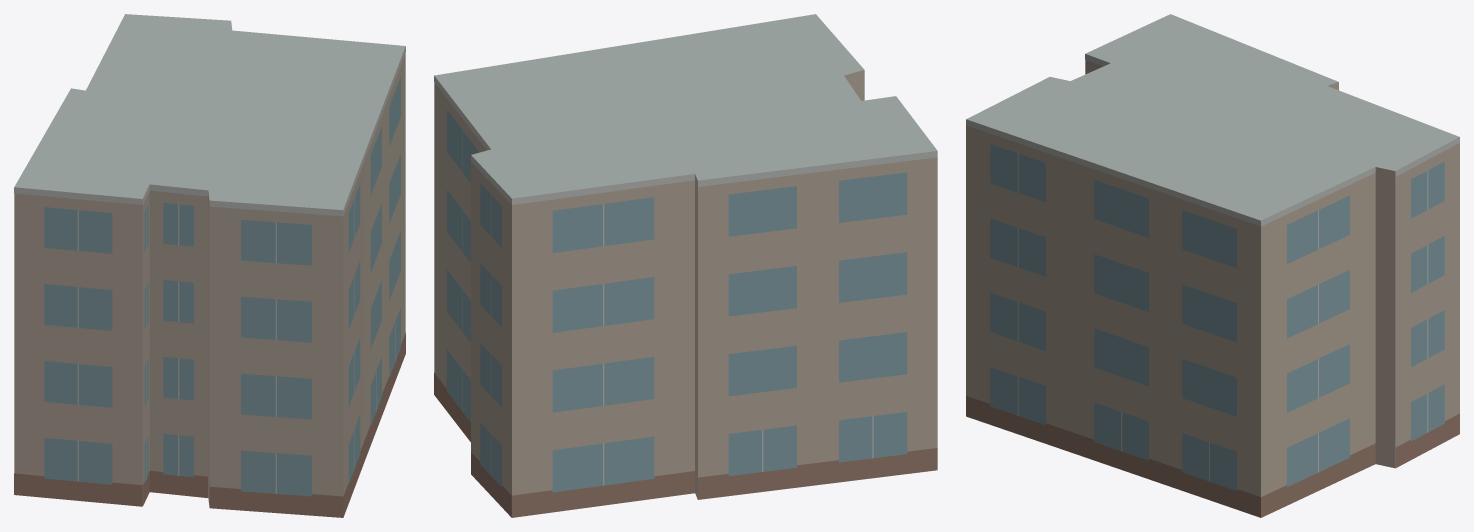
File: survey-upis-32658147.glb
3 renders of one model, left to right at view 1: azimuth 30°, elevation 25°; view 2: azimuth 150°, elevation 25°; view 3: azimuth 270°, elevation 25°, orthographic. The views are drawn at different scales.
Parts seen in each view (by area): view 1: survey-upis-32658147.tmp; view 2: survey-upis-32658147.tmp; view 3: survey-upis-32658147.tmp.
Boxes of the visible parts, x1,y1,x2,y2 form: survey-upis-32658147.tmp: (14,14,405,517); survey-upis-32658147.tmp: (434,14,937,517); survey-upis-32658147.tmp: (966,14,1459,517).
Size of the model in its own units: 18.2 by 12.2 by 18.38.
